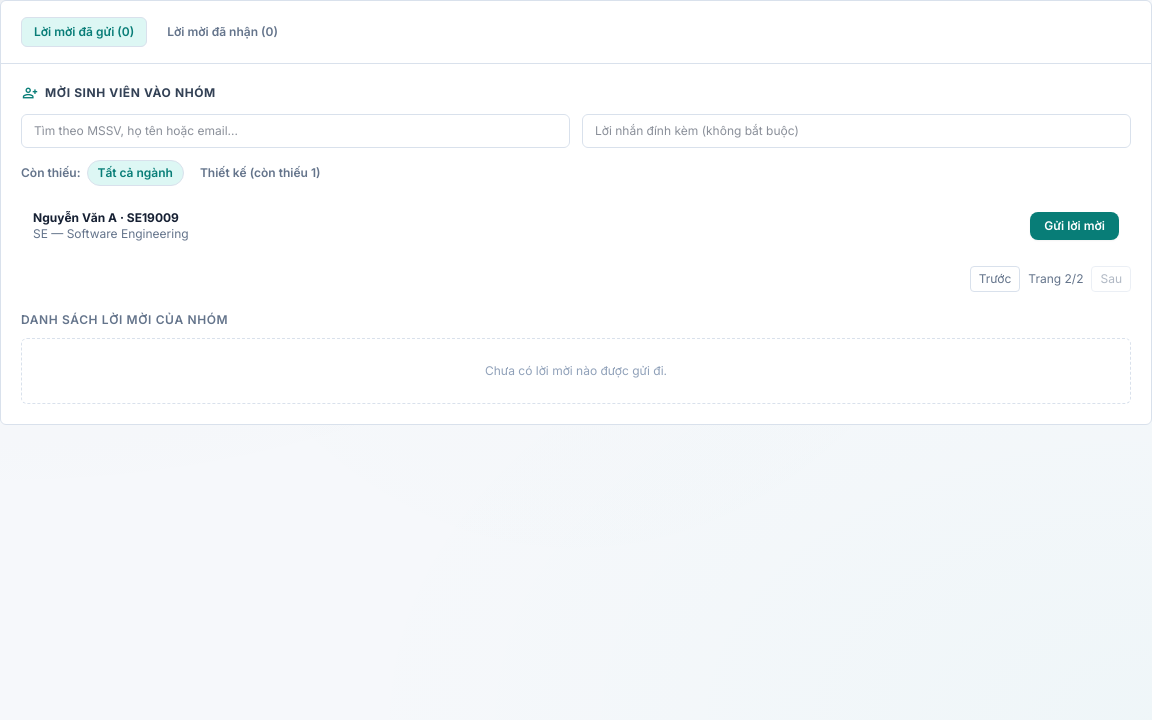
Test: TeamInvitationsPanel › shows a page-local empty message distinct from the no-candidates message when a major filter matches nothing on this page
Click the button "Thiết kế (còn thiếu 1)".
click(260, 173)  # box [190,161,330,185]
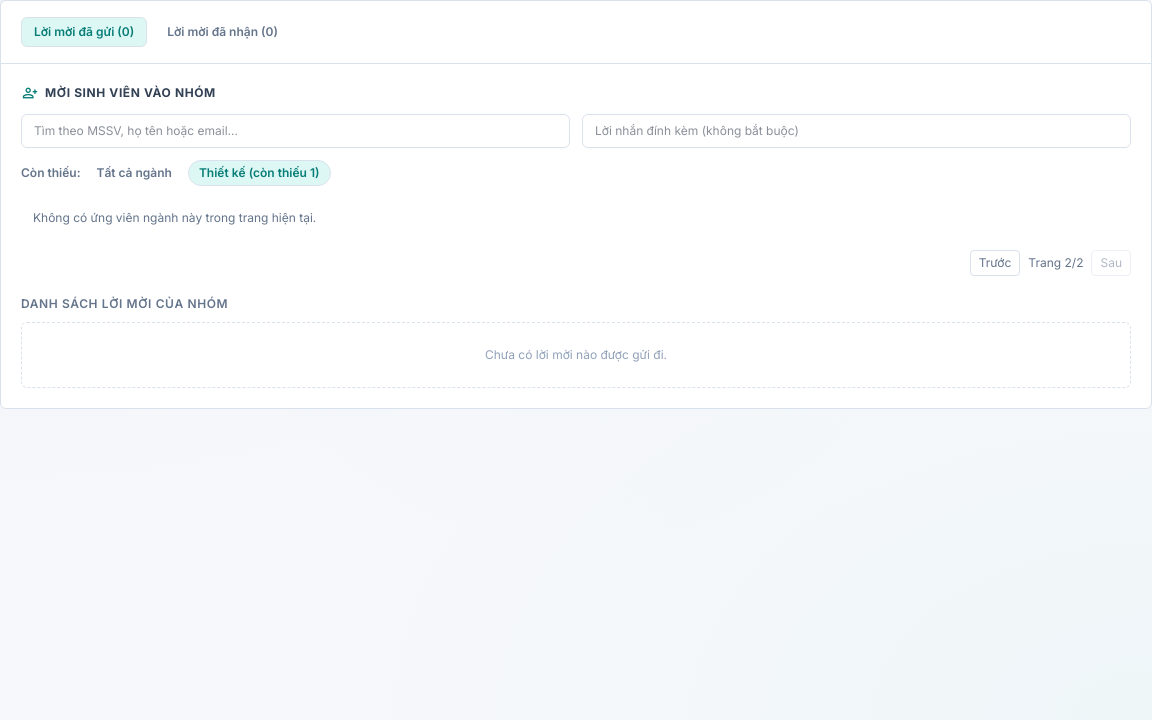
Expected: the text "Không có ứng viên ngành này trong trang hiện tại." is shown, [33,210,316,225]
